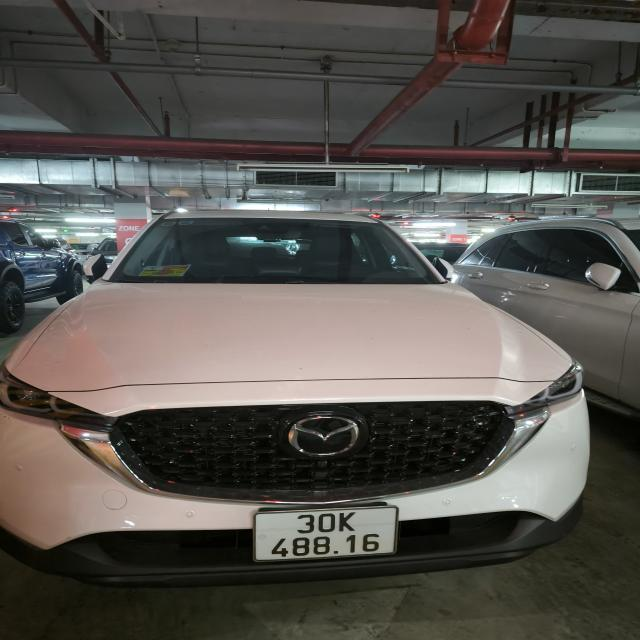license: (252, 504, 399, 562)
